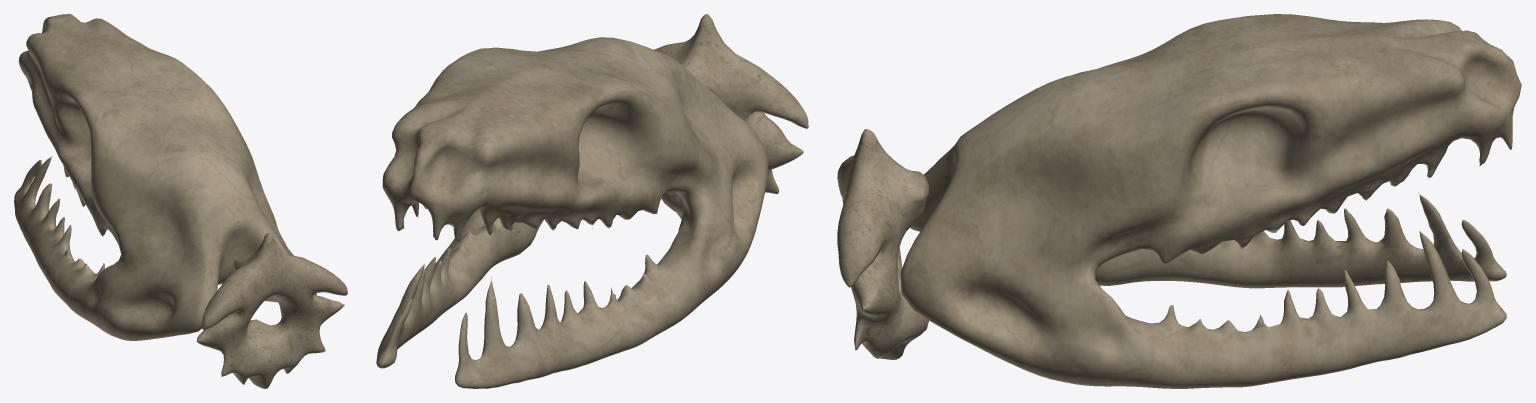
File: Giant Snake_TEXT.glb
The picture shows the model from 3 angles, left to right: view 1: azimuth 30°, elevation 25°; view 2: azimuth 150°, elevation 25°; view 3: azimuth 270°, elevation 25°; orthographic projection. The views are drawn at different scales.
Parts seen in each view (by area): view 1: Retopo_Skull, Retopo_Vertebrae; view 2: Retopo_Skull, Retopo_Vertebrae; view 3: Retopo_Skull, Retopo_Vertebrae.
Part boxes in pixels (box(x1,y1,x2,y2)): Retopo_Skull: box(14, 14, 316, 340); Retopo_Vertebrae: box(196, 233, 347, 388); Retopo_Skull: box(376, 37, 768, 388); Retopo_Vertebrae: box(654, 14, 808, 219); Retopo_Skull: box(900, 14, 1521, 388); Retopo_Vertebrae: box(837, 129, 928, 359).
Size of the model in its own units: 3.36 by 3.77 by 7.25.
Materials: 2 (2 with a texture image).
